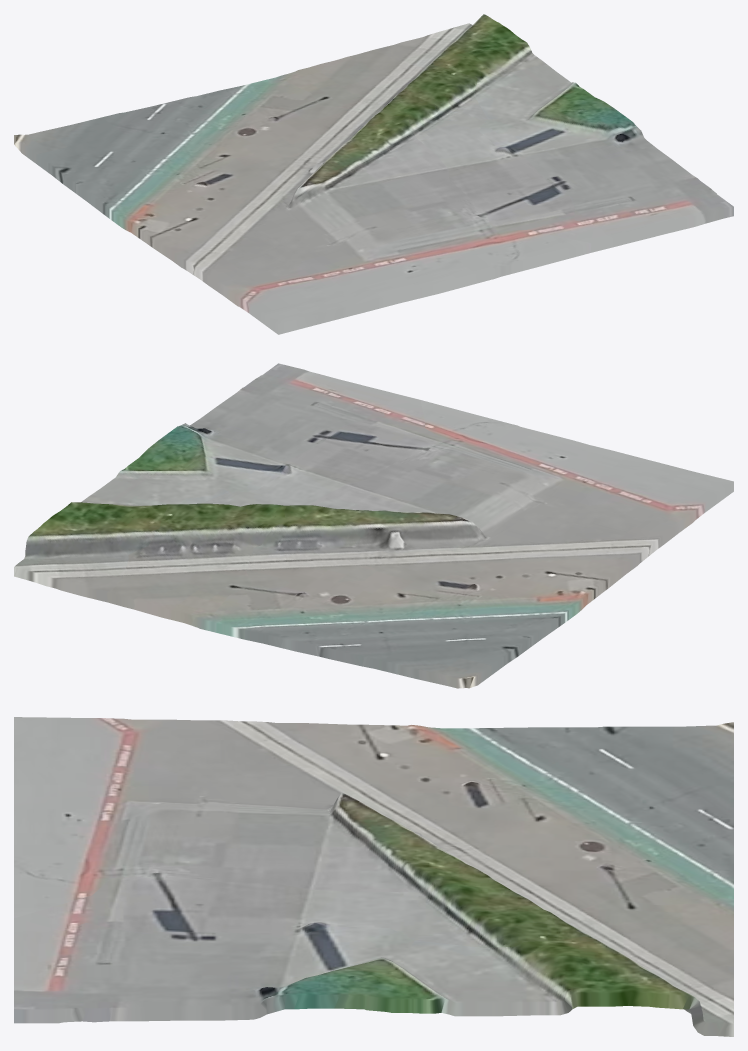
The model's file is z20-167768-405190-h0-yup-uvflip-v3-world.glb.
The picture shows the model from 3 angles, top to bottom: view 1: azimuth 30°, elevation 25°; view 2: azimuth 150°, elevation 25°; view 3: azimuth 270°, elevation 25°; orthographic projection. The views are drawn at different scales.
Size of the model in its own units: 30.16 by 2.56 by 30.32.
Materials: 1 (1 with a texture image).
